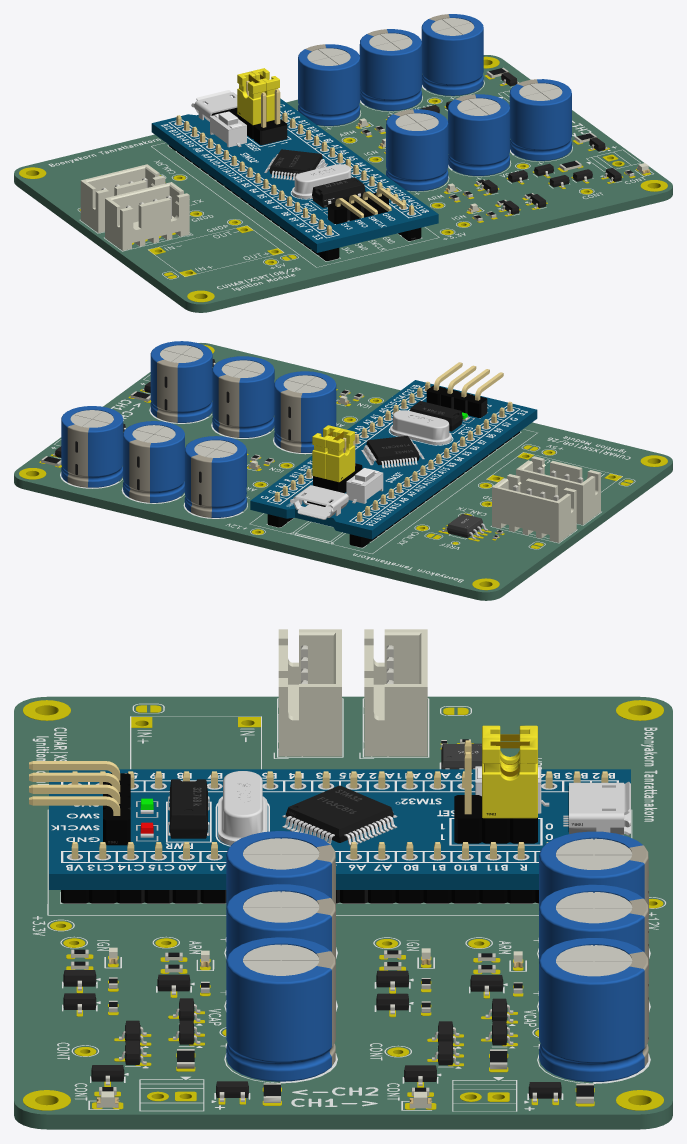
File: ignition_module.glb
The picture shows the model from 3 angles, top to bottom: view 1: azimuth 30°, elevation 25°; view 2: azimuth 150°, elevation 25°; view 3: azimuth 270°, elevation 25°; orthographic projection. The views are drawn at different scales.
Parts seen in each view (by area): view 1: =>[0:1:1:14], D5, inst_2_4, inst_2_1, inst_2_3, inst_2_0, inst_2_5, inst_2_2, =>[0:1:1:13], =>[0:1:1:12]; view 2: =>[0:1:1:14], D5, inst_2_0, inst_2_1, inst_2_2, inst_2_4, inst_2_3, inst_2_5, =>[0:1:1:13], =>[0:1:1:12]; view 3: =>[0:1:1:14], D5, inst_2_1, inst_2_4, =>[0:1:1:12], =>[0:1:1:13], inst_2_0, inst_2_2, inst_2_5, inst_2_3.
Boxes of the visible parts, <box> form: =>[0:1:1:14]: <box>14,55,672,312</box>; D5: <box>80,67,649,260</box>; inst_2_4: <box>421,14,483,95</box>; inst_2_1: <box>509,79,571,160</box>; inst_2_3: <box>359,29,421,110</box>; inst_2_0: <box>448,94,509,175</box>; inst_2_5: <box>386,109,448,191</box>; inst_2_2: <box>298,44,360,125</box>; =>[0:1:1:13]: <box>48,80,653,290</box>; =>[0:1:1:12]: <box>19,56,667,302</box>; =>[0:1:1:14]: <box>14,343,672,600</box>; D5: <box>41,362,600,547</box>; inst_2_0: <box>212,356,274,437</box>; inst_2_1: <box>150,341,212,422</box>; inst_2_2: <box>184,436,246,517</box>; inst_2_4: <box>61,406,123,487</box>; inst_2_3: <box>123,421,184,502</box>; inst_2_5: <box>274,371,336,452</box>; =>[0:1:1:13]: <box>51,374,635,582</box>; =>[0:1:1:12]: <box>19,345,667,590</box>; =>[0:1:1:14]: <box>14,696,672,1129</box>; D5: <box>29,629,630,1108</box>; inst_2_1: <box>226,937,335,1081</box>; inst_2_4: <box>539,938,648,1082</box>; =>[0:1:1:12]: <box>23,700,663,1110</box>; =>[0:1:1:13]: <box>32,698,665,1111</box>; inst_2_0: <box>226,884,335,970</box>; inst_2_2: <box>539,831,648,932</box>; inst_2_5: <box>226,831,335,917</box>; inst_2_3: <box>539,884,648,986</box>.
Bounding box in the file's own units: 0.09 × 0.017 × 0.06.
4 materials, 4 textured.
